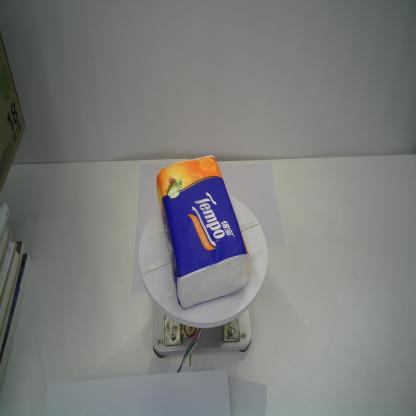Tissue: (155, 152, 251, 310)
